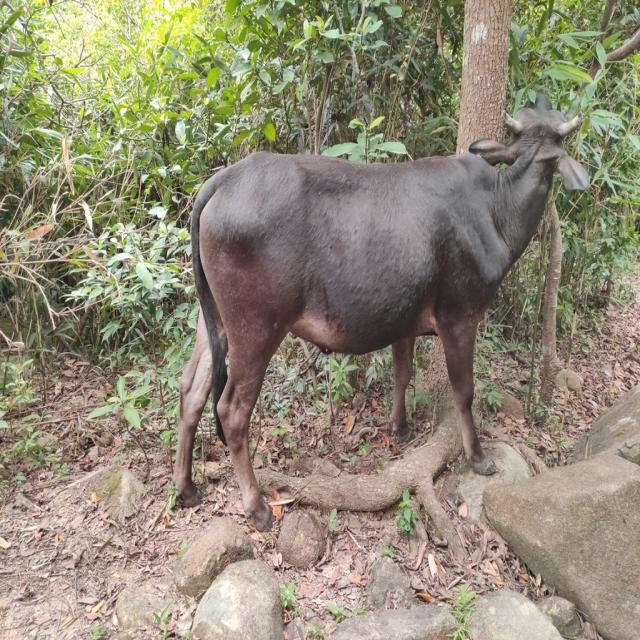cow: (174, 98, 588, 530)
